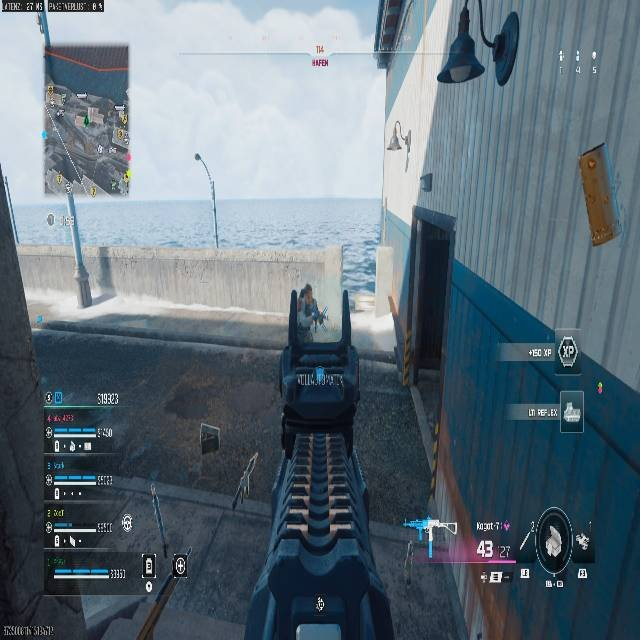head: (302, 283, 312, 298)
player: (300, 284, 322, 331), (316, 303, 328, 330)
